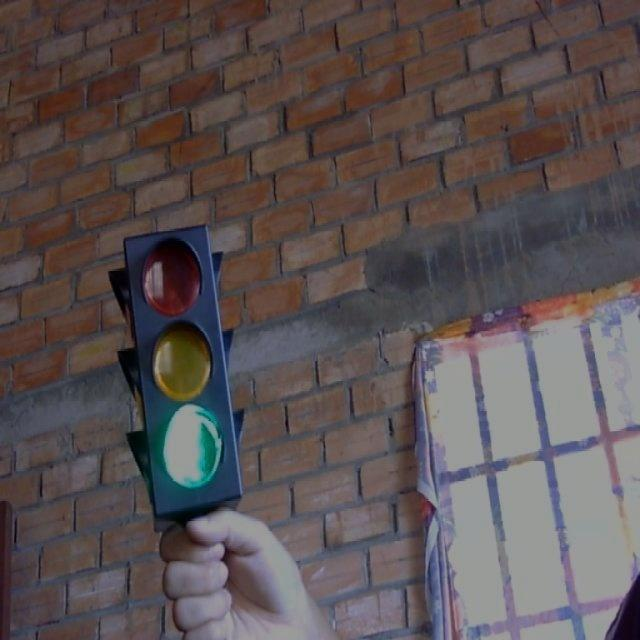Green: (116, 220, 267, 529)
